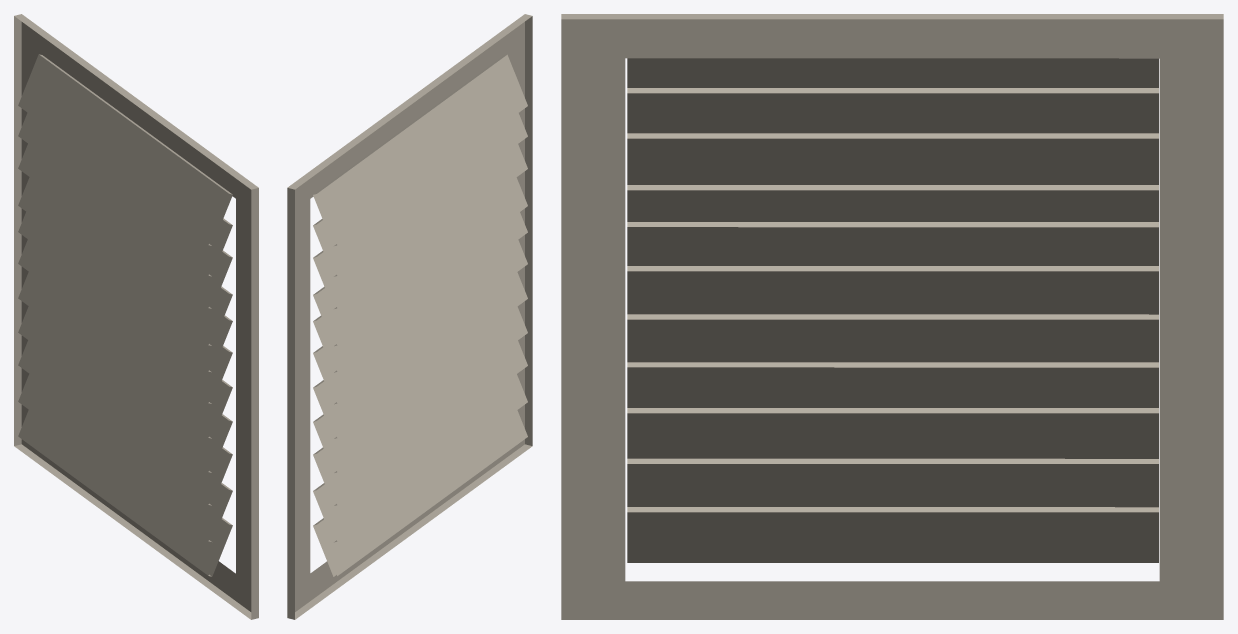
The model's file is SM_Airing_Cap_01.fbx.
3 renders of one model, left to right at view 1: azimuth 30°, elevation 25°; view 2: azimuth 150°, elevation 25°; view 3: azimuth 270°, elevation 25°, orthographic. The views are drawn at different scales.
Visible parts, largest first — view 1: SM_Airing_Cap_01; view 2: SM_Airing_Cap_01; view 3: SM_Airing_Cap_01.
Part boxes in pixels (x1,y1,x2,y2): SM_Airing_Cap_01: (14, 14, 258, 619); SM_Airing_Cap_01: (287, 14, 532, 619); SM_Airing_Cap_01: (561, 14, 1223, 619).
Size of the model in its own units: 3.72 by 56.42 by 56.42.
